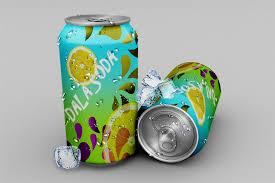Aluminum can: (56, 15, 139, 165), (135, 55, 223, 164)
